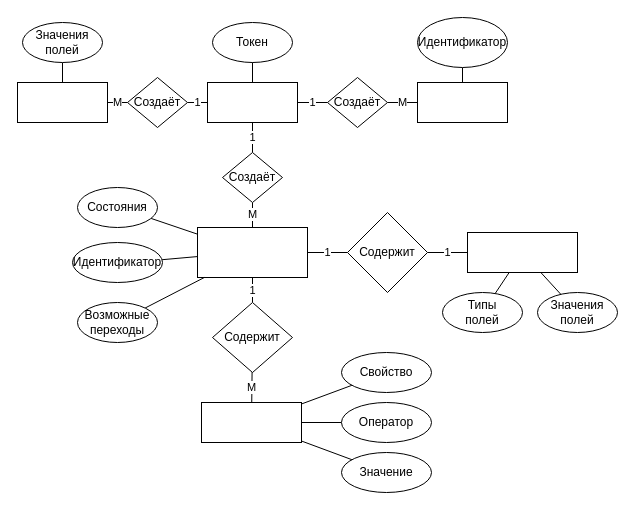
Image size: 635x510. Some labels were removed from this diagram. Each missing label, with the centre of its shape:
"Изменение" belongs at (62,102).
"Машина состояний" belongs at (252,252).
"Объект" belongs at (522,252).
"Пользователь" belongs at (252,102).
"Правило перехода" belongs at (251,422).
"Событие" belongs at (462,102).
